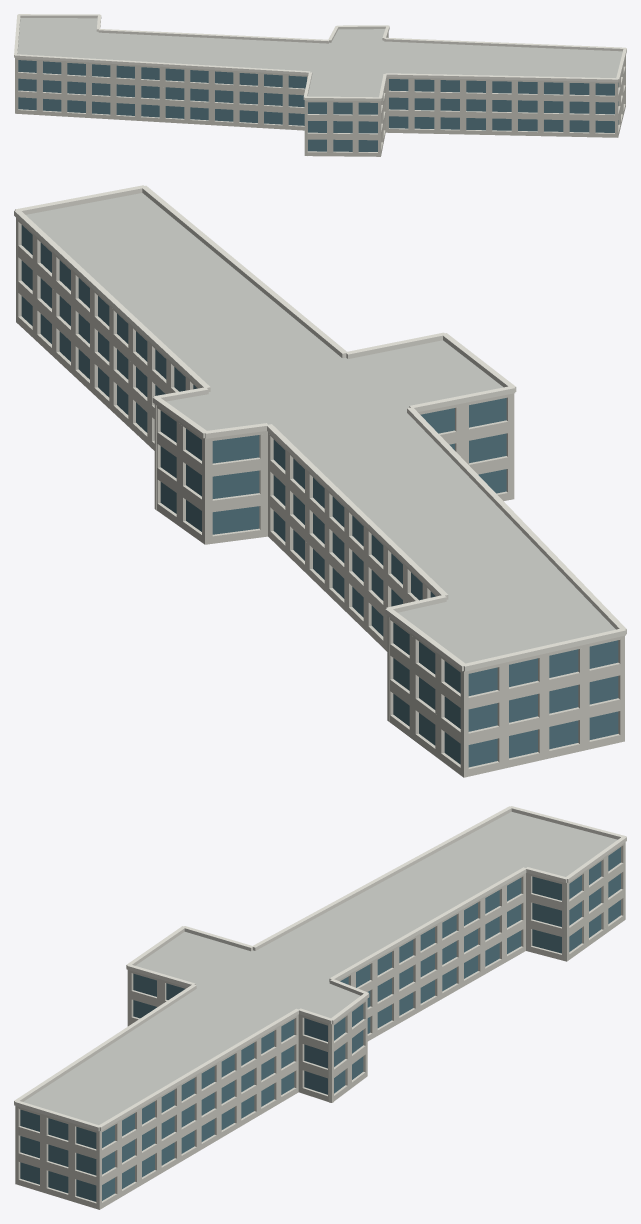
Rendered from sb_1556523868.far.glb.
3 views of the same model, one above another, from view 1: azimuth 30°, elevation 25°; view 2: azimuth 150°, elevation 25°; view 3: azimuth 270°, elevation 25° (orthographic). The views are drawn at different scales.
Visible parts, largest first — view 1: roof, wall, glass, trim; view 2: roof, wall, glass, trim; view 3: roof, wall, glass, trim.
Part boxes in pixels (box(x1,y1,x2,y2)): roof: box(17, 18, 622, 97); wall: box(15, 32, 625, 156); glass: box(18, 60, 618, 151); trim: box(14, 14, 626, 101); roof: box(26, 193, 615, 663); wall: box(16, 218, 624, 777); glass: box(21, 225, 618, 767); trim: box(14, 185, 626, 671); roof: box(23, 811, 617, 1124); wall: box(15, 842, 625, 1209); glass: box(20, 847, 620, 1201); trim: box(14, 806, 626, 1131).
Size of the model in its own units: 81.06 by 9.74 by 65.29.
